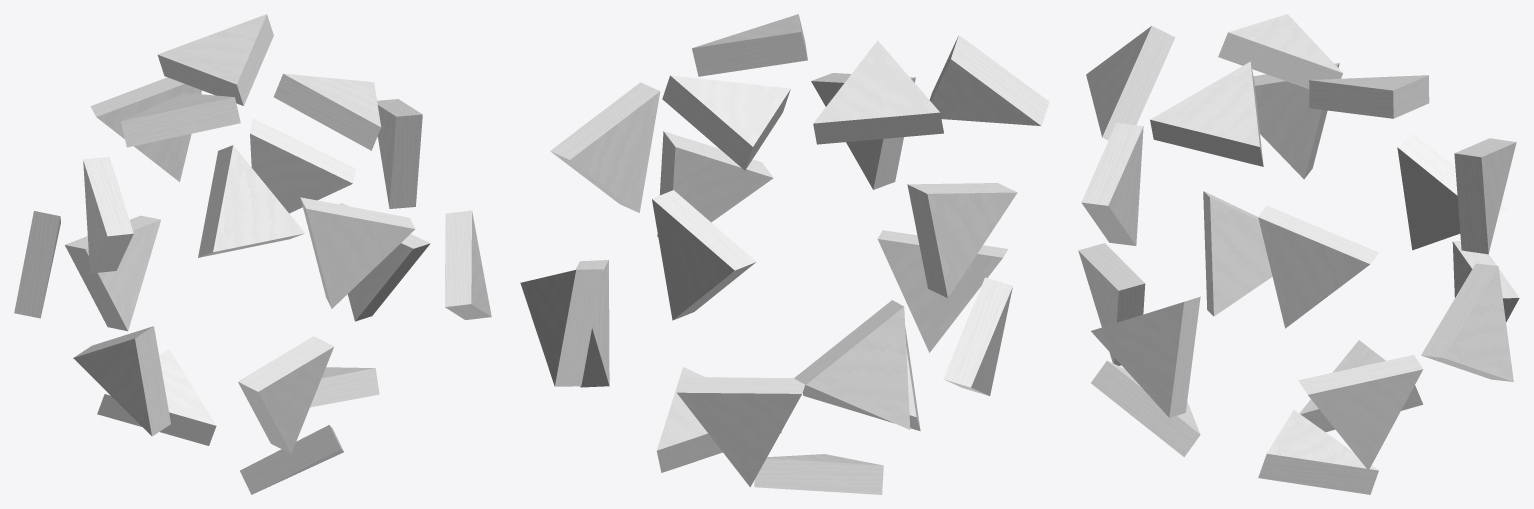
File: qlear.obj
3 renders of one model, left to right at view 1: azimuth 30°, elevation 25°; view 2: azimuth 150°, elevation 25°; view 3: azimuth 270°, elevation 25°, orthographic. The views are drawn at different scales.
Visible parts, largest first — view 1: Cube.002; view 2: Cube.002; view 3: Cube.002.
Boxes of the visible parts, x1,y1,x2,y2 form: Cube.002: [14, 14, 491, 494]; Cube.002: [520, 14, 1049, 494]; Cube.002: [1078, 14, 1519, 494].
Bounding box in the file's own units: 1.23 × 1.24 × 1.24.
